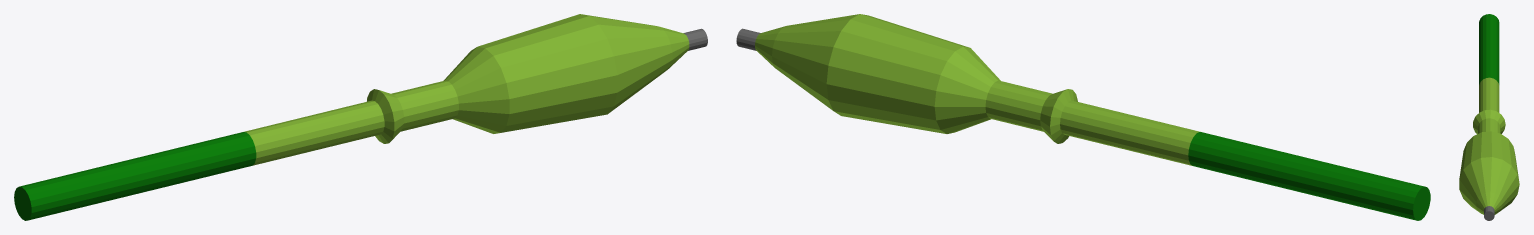
File: RPG.fbx
3 renders of one model, left to right at view 1: azimuth 30°, elevation 25°; view 2: azimuth 150°, elevation 25°; view 3: azimuth 270°, elevation 25°, orthographic. The views are drawn at different scales.
Parts seen in each view (by area): view 1: Cylinder; view 2: Cylinder; view 3: Cylinder.
Part boxes in pixels (left/top/right/bottom): Cylinder: left=14, top=14, right=707, bottom=220; Cylinder: left=736, top=14, right=1430, bottom=220; Cylinder: left=1459, top=14, right=1519, bottom=220.
Bounding box in the file's own units: 678 × 90.06 × 89.68.
